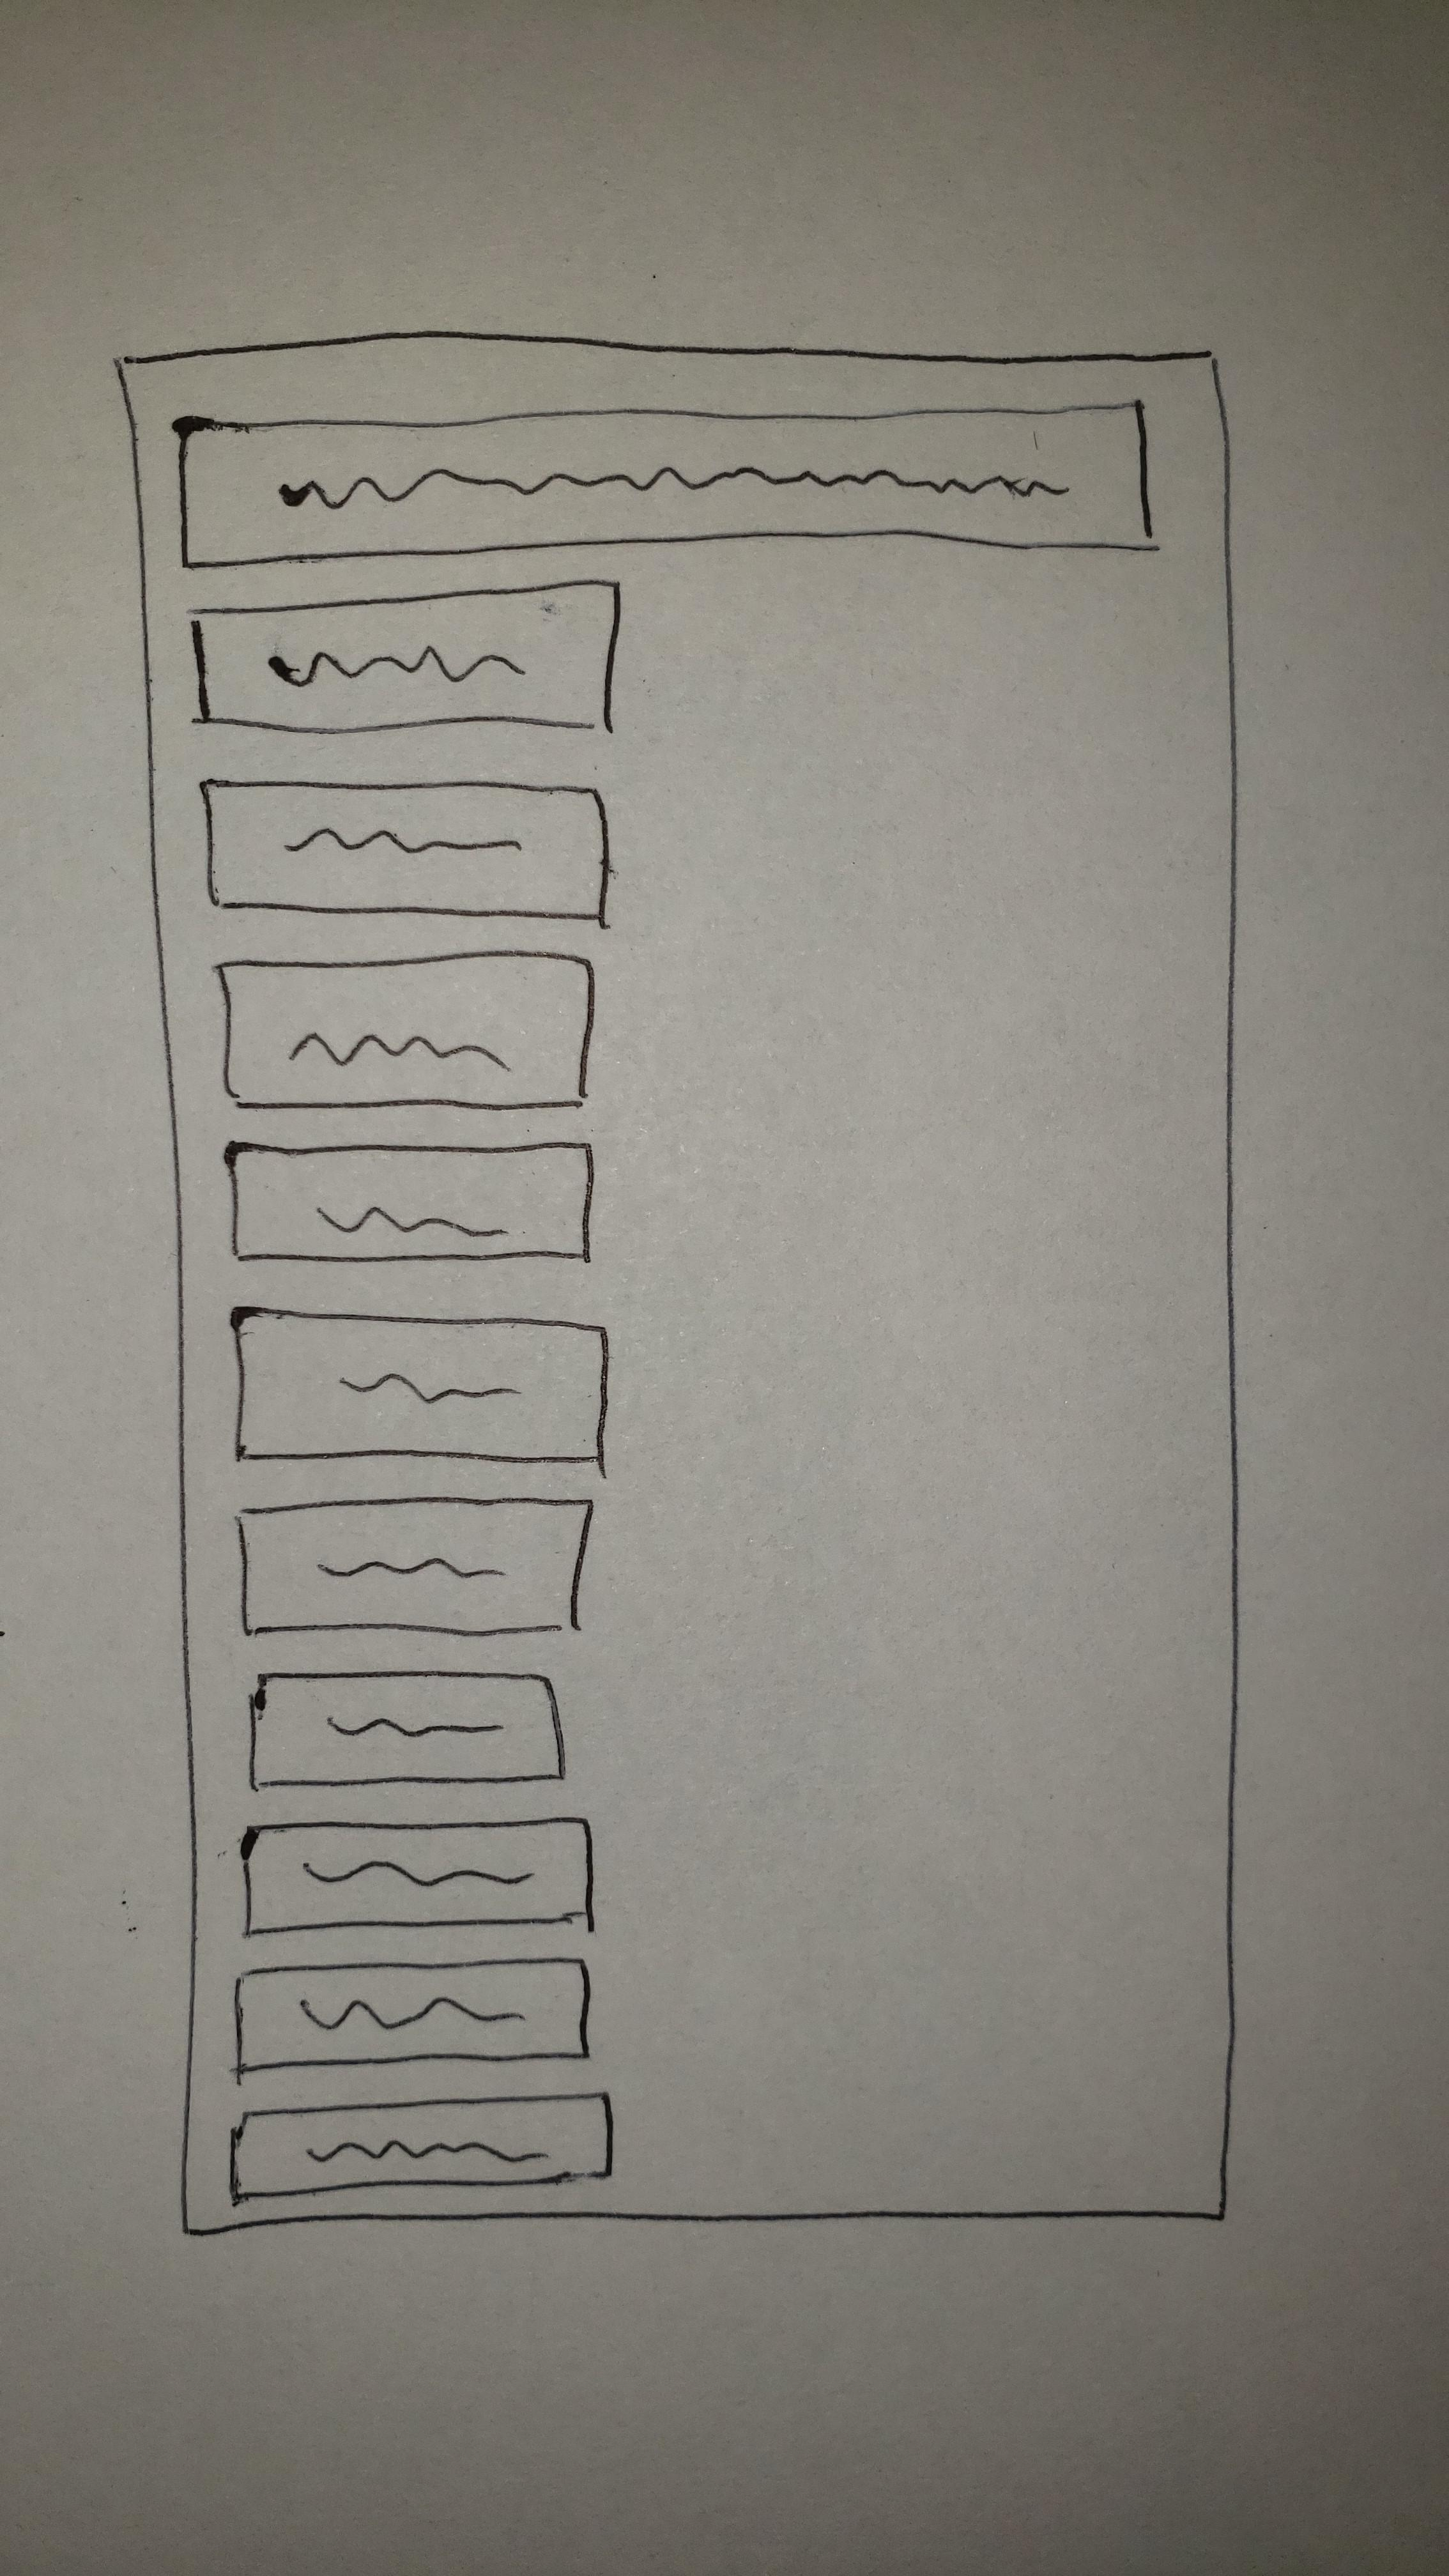Button: (177, 398, 1155, 568), (193, 579, 621, 734), (214, 952, 594, 1109), (230, 1306, 610, 1463), (203, 778, 610, 916), (235, 1499, 594, 1637), (223, 1139, 594, 1263), (232, 1959, 593, 2077), (241, 1817, 593, 1936), (232, 2093, 617, 2197), (249, 1672, 566, 1790)
Screen: (115, 329, 1240, 2235)
